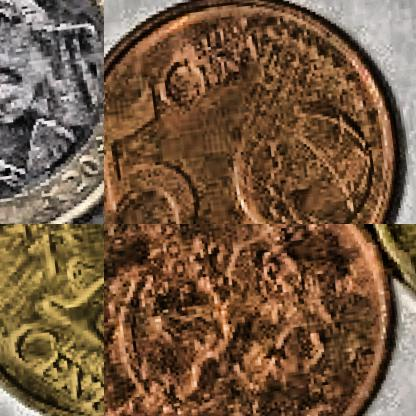coin: (104, 0, 415, 223), (104, 224, 415, 415), (0, 0, 103, 223), (0, 224, 103, 415)
